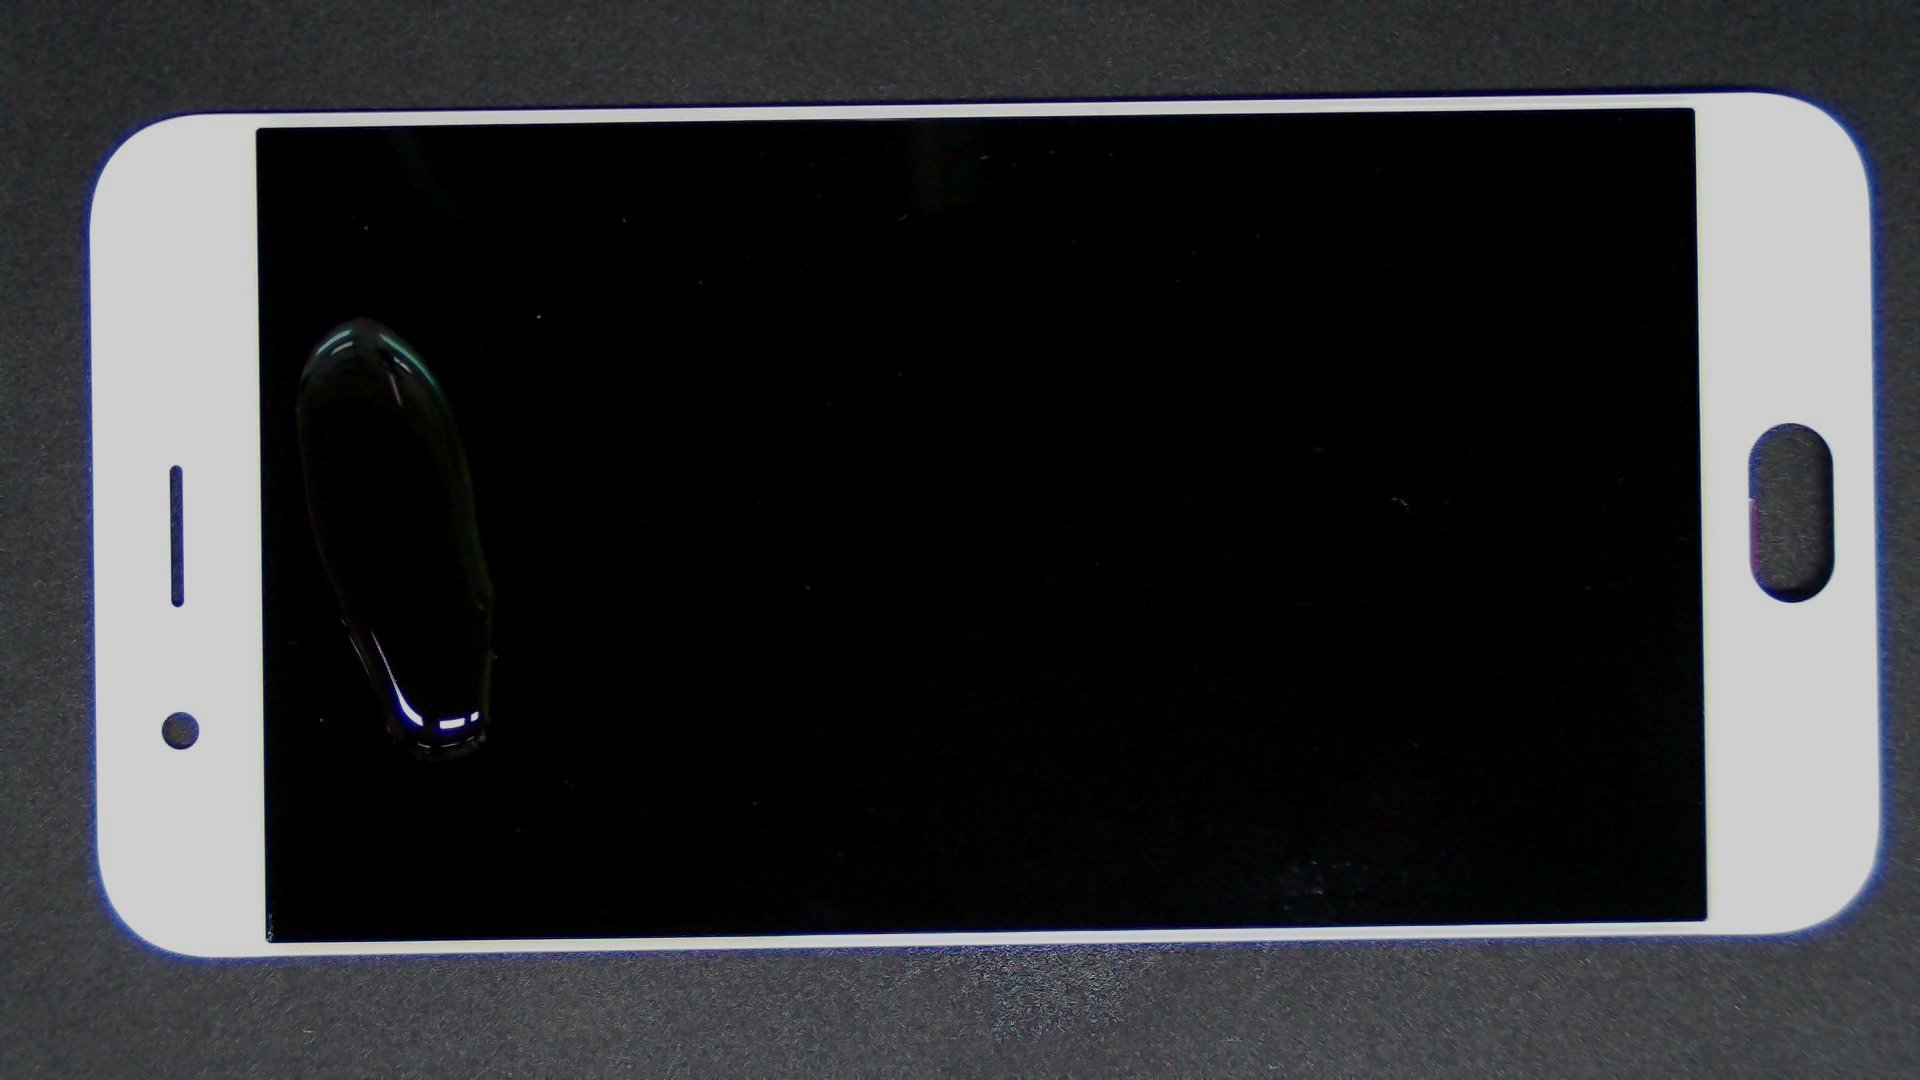oil: (181, 157, 541, 475)
